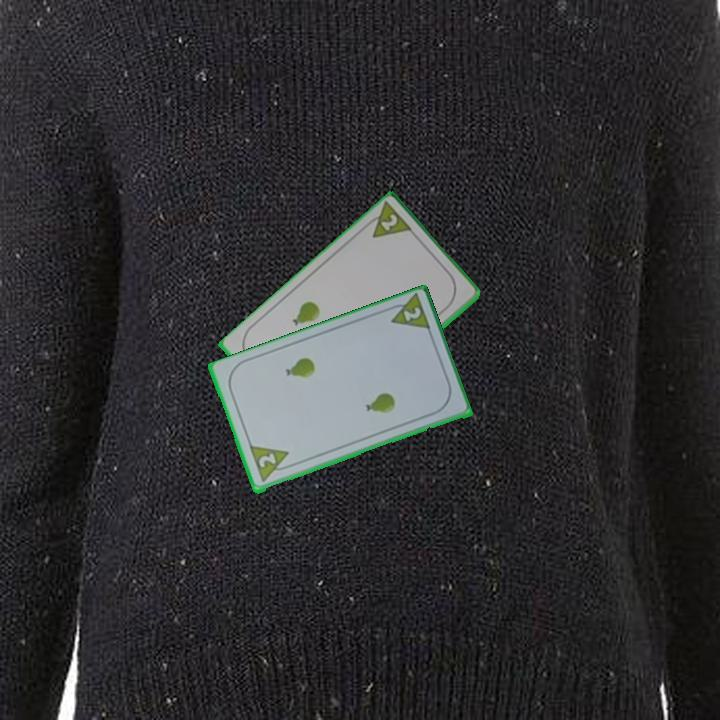2p: (382, 292, 434, 335), (377, 211, 401, 235), (255, 450, 279, 471)
